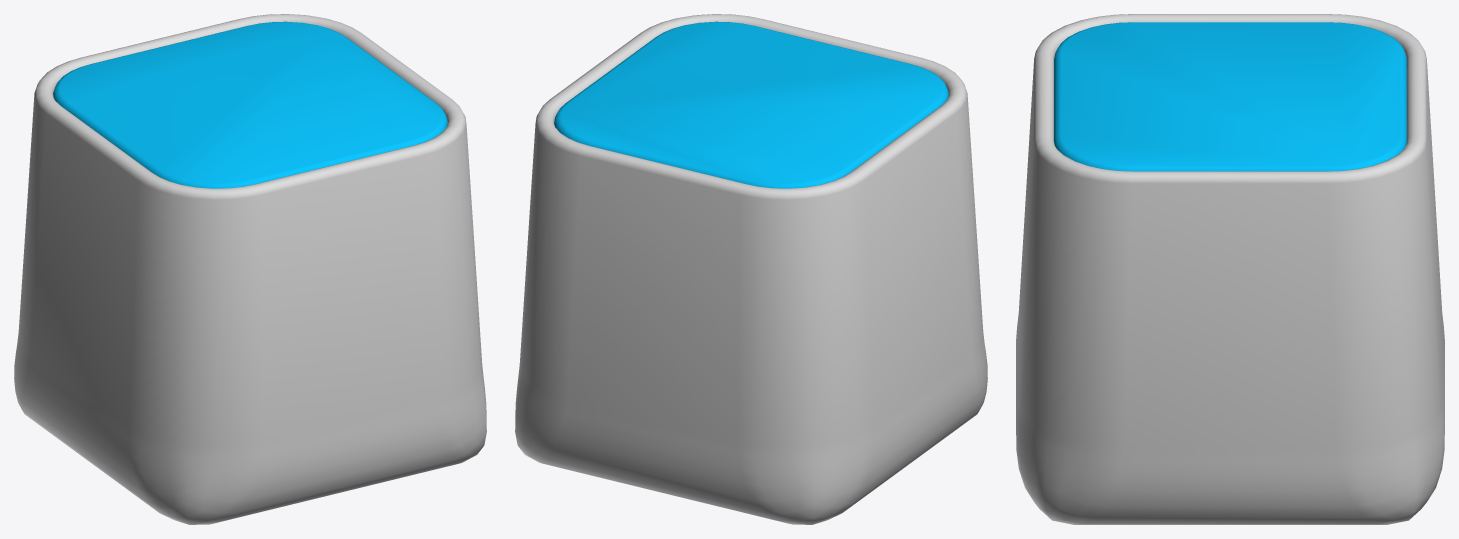
Rendered from OglesDepthsGlass.fbx.
The picture shows the model from 3 angles, left to right: view 1: azimuth 30°, elevation 25°; view 2: azimuth 150°, elevation 25°; view 3: azimuth 270°, elevation 25°; orthographic projection. The views are drawn at different scales.
Parts seen in each view (by area): view 1: Ogles Depths Glass; view 2: Ogles Depths Glass; view 3: Ogles Depths Glass.
Boxes of the visible parts, <box> form: Ogles Depths Glass: <box>14,14,486,524</box>; Ogles Depths Glass: <box>515,14,987,524</box>; Ogles Depths Glass: <box>1016,14,1444,524</box>.
Size of the model in its own units: 45.23 by 41.37 by 45.23.
